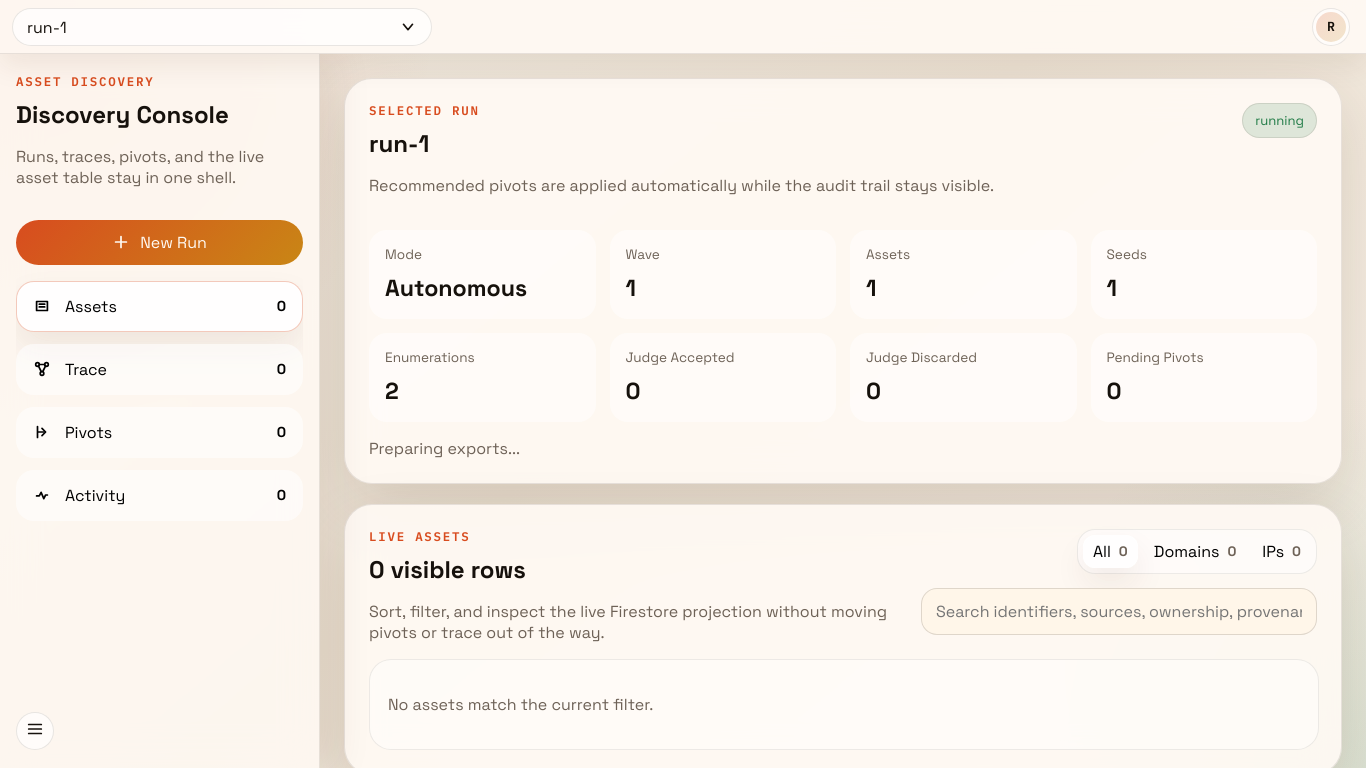
Test case: App › does not expose project IDs or organization-specific branding in the rendered client
Click the button "New Run" at (160, 242), box [16,220,303,265]
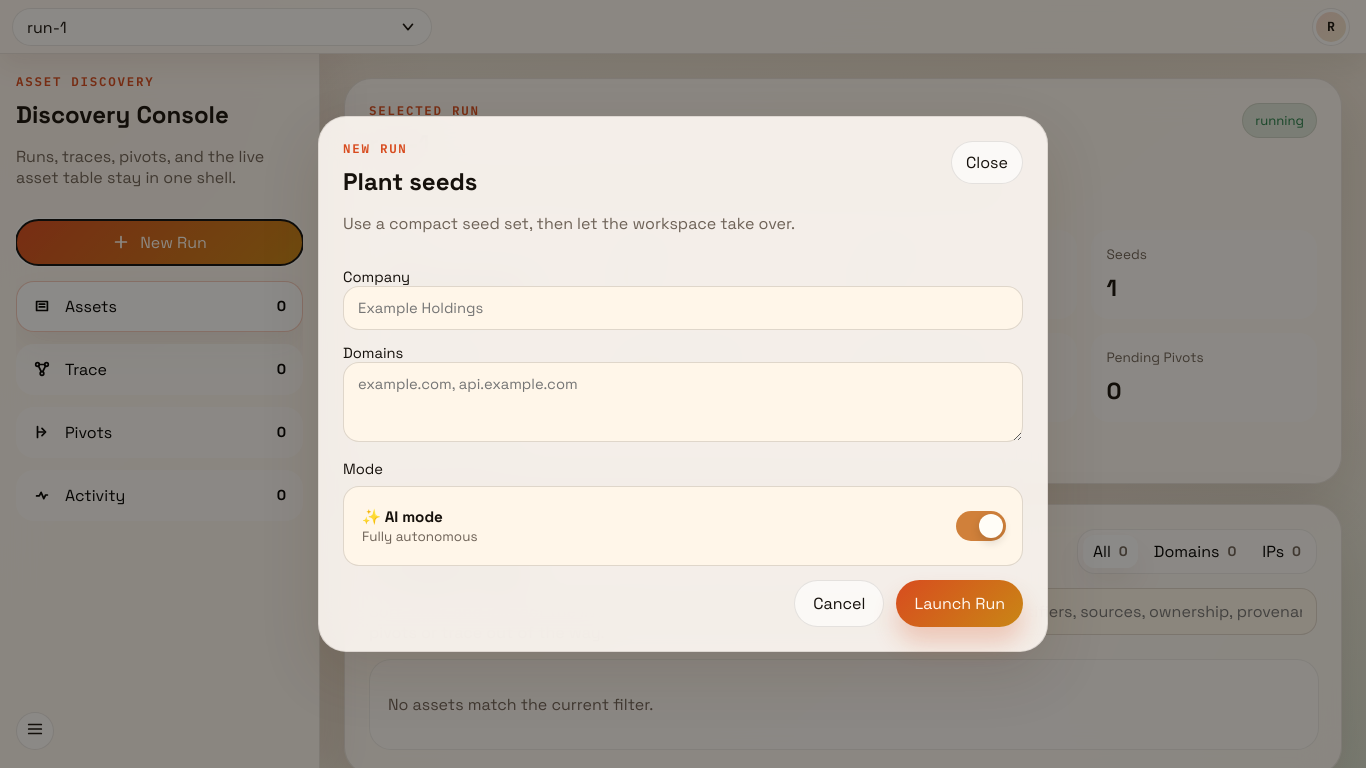
expect the field with placeholder "Example Holdings" is shown: met, box [343,286,1023,330]
